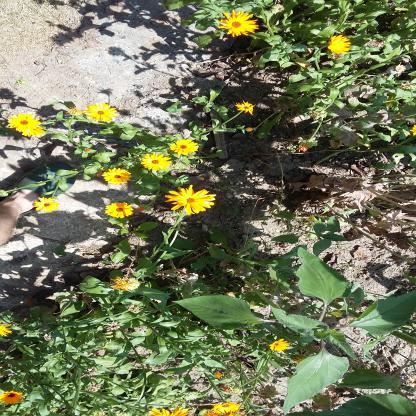marigold: (184, 197, 215, 252), (10, 157, 38, 197), (103, 298, 123, 333), (114, 373, 131, 409), (137, 216, 156, 247), (168, 283, 186, 315), (152, 244, 170, 275), (202, 282, 219, 313), (35, 63, 54, 89), (196, 355, 213, 384), (400, 170, 414, 205), (389, 390, 406, 416), (121, 371, 137, 395), (338, 123, 353, 148), (100, 160, 115, 180)
